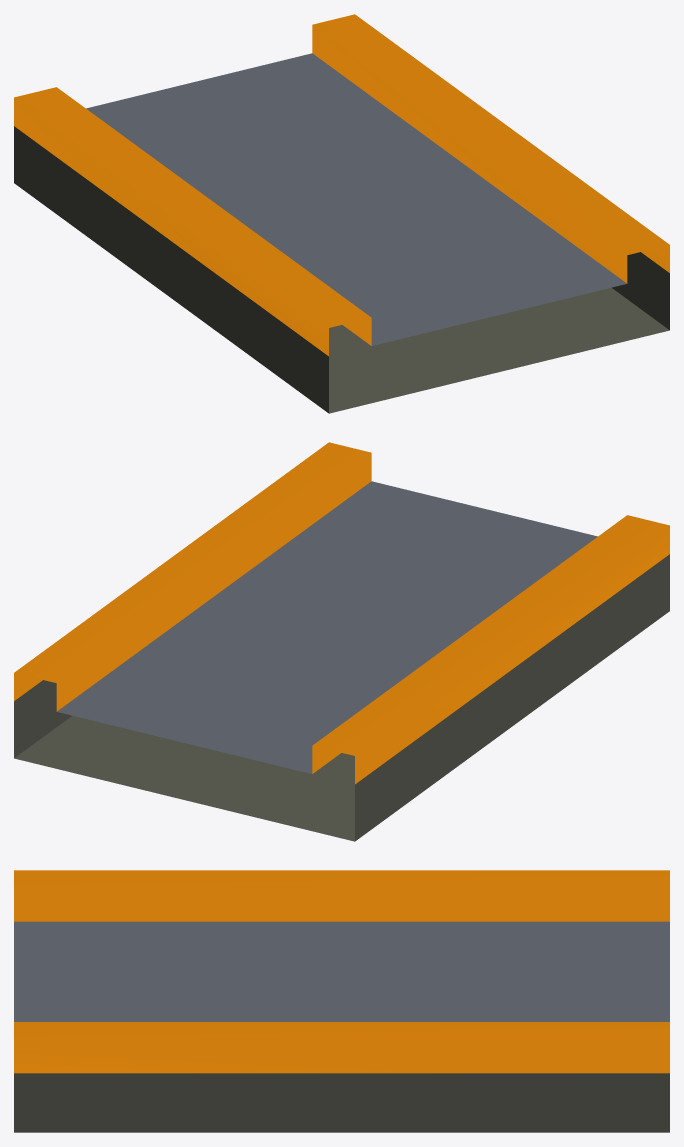
The model's file is road.fbx.
The picture shows the model from 3 angles, top to bottom: view 1: azimuth 30°, elevation 25°; view 2: azimuth 150°, elevation 25°; view 3: azimuth 270°, elevation 25°; orthographic projection. The views are drawn at different scales.
Visible parts, largest first — view 1: Cube.003; view 2: Cube.003; view 3: Cube.003.
Part boxes in pixels (bbox=[...]): Cube.003: bbox=[14, 14, 669, 413]; Cube.003: bbox=[14, 442, 669, 841]; Cube.003: bbox=[14, 870, 669, 1132].
Bounding box in the file's own units: 625 × 150 × 1000.
